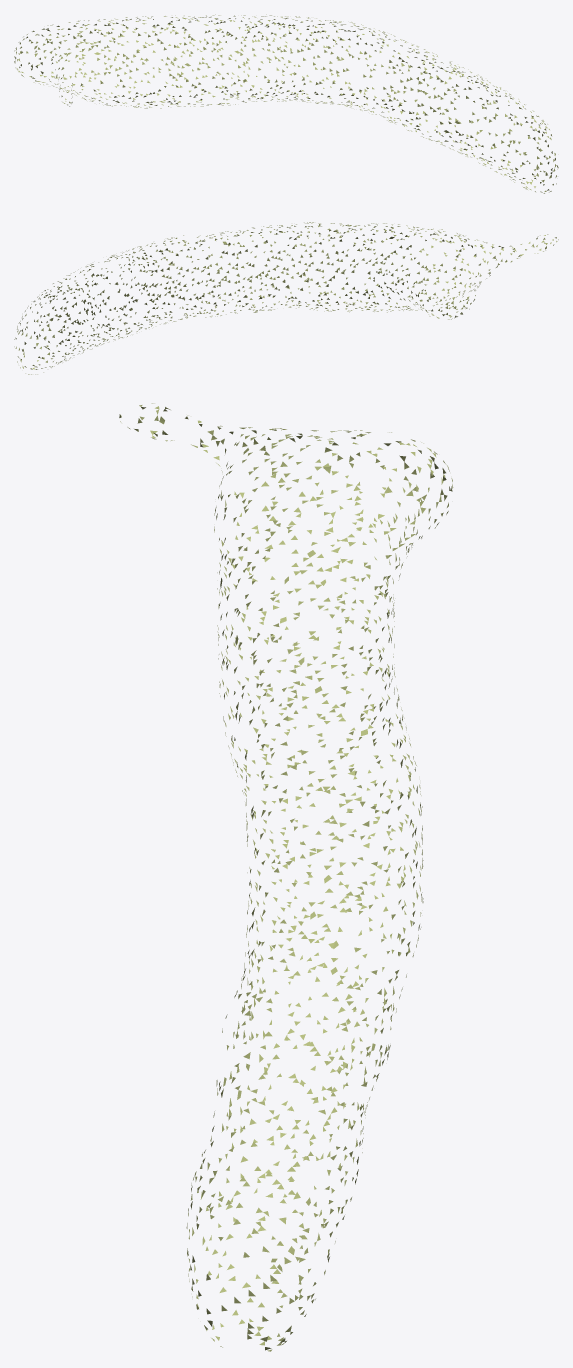
Rendered from morph_010.glb.
3 renders of one model, top to bottom at view 1: azimuth 30°, elevation 25°; view 2: azimuth 150°, elevation 25°; view 3: azimuth 270°, elevation 25°, orthographic. The views are drawn at different scales.
Bounding box in the file's own units: 116 × 54.83 × 33.21.
